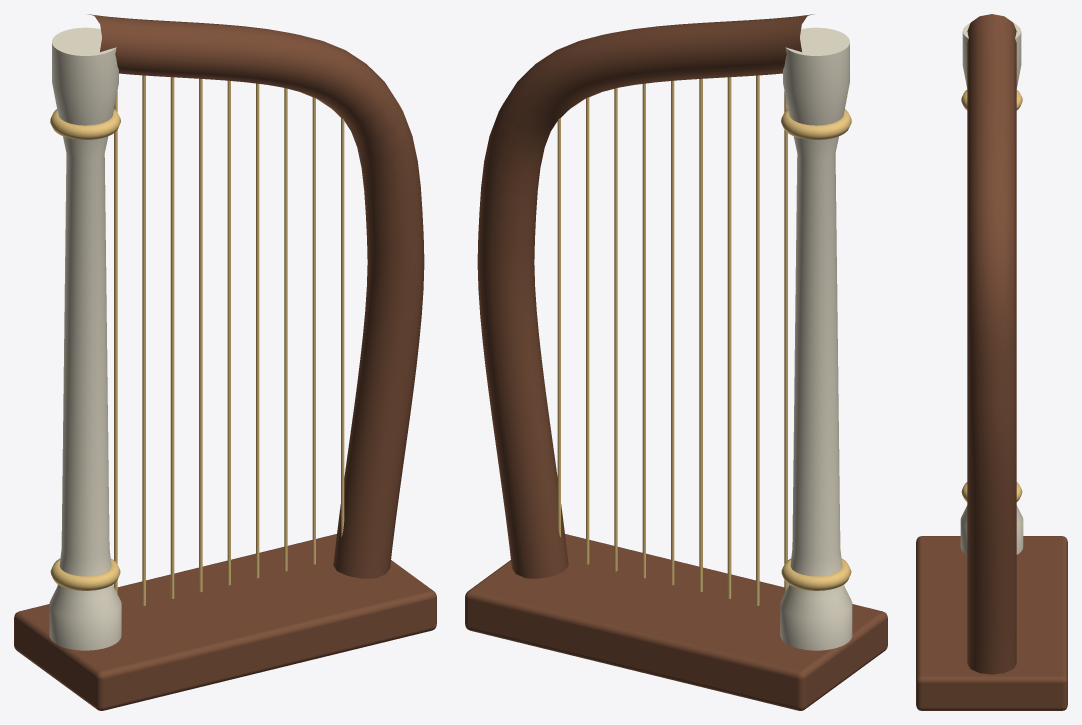
The model's file is royal-court-and-throne-palace-court-harp-526a088b__29428.glb.
3 views of the same model, side by side, from view 1: azimuth 30°, elevation 25°; view 2: azimuth 150°, elevation 25°; view 3: azimuth 270°, elevation 25° (orthographic). The views are drawn at different scales.
Parts seen in each view (by area): view 1: court-harp; view 2: court-harp; view 3: court-harp.
Boxes of the visible parts, bbox=[...] form: court-harp: bbox=[14, 14, 436, 710]; court-harp: bbox=[465, 14, 887, 710]; court-harp: bbox=[916, 14, 1067, 710].
Size of the model in its own units: 0.9685 by 1.66 by 0.4.
